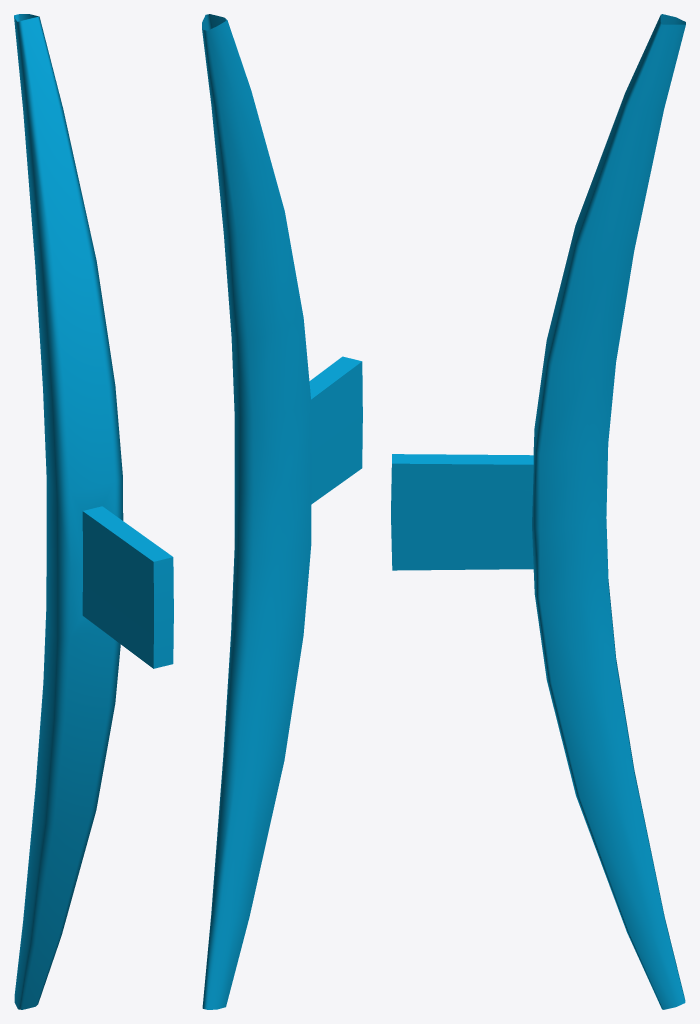
The model's file is wrist menu_UI_2.fbx.
The picture shows the model from 3 angles, left to right: view 1: azimuth 30°, elevation 25°; view 2: azimuth 150°, elevation 25°; view 3: azimuth 270°, elevation 25°; orthographic projection.
Parts seen in each view (by area): view 1: menu_inside2; view 2: menu_inside2; view 3: menu_inside2.
Boxes of the visible parts, x1=… form: menu_inside2: x1=14, y1=14, x2=173, y2=1009; menu_inside2: x1=202, y1=14, x2=362, y2=1009; menu_inside2: x1=391, y1=14, x2=685, y2=1009.
Bounding box in the file's own units: 0.0919 × 1.3 × 0.3511.
